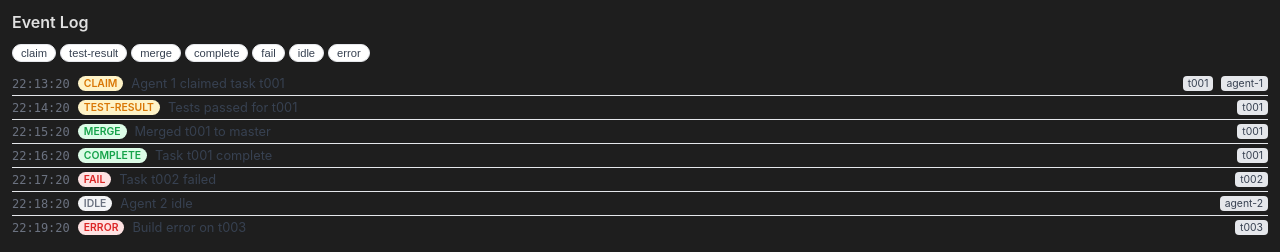
Test: EventLog › should toggle event type off when filter badge is clicked
The width and height of the screenshot is (1280, 252).
Click the button "idle".
click(306, 53)  # box [289, 44, 324, 62]
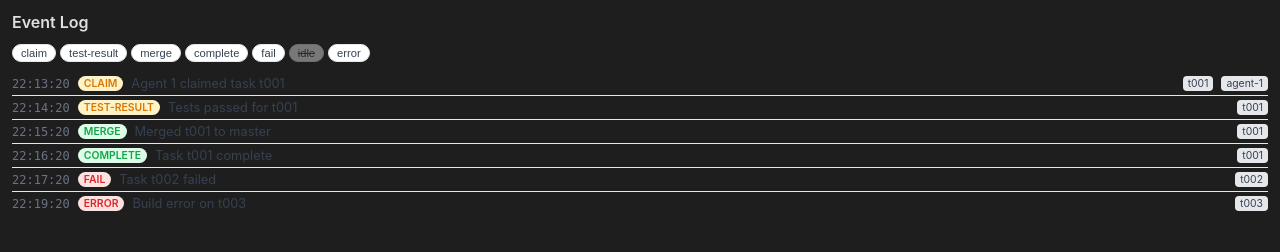
Expected: the number of elements with class "event-log-entry" is 6, [12, 72, 1268, 96]; [12, 96, 1268, 120]; [12, 120, 1268, 144]; [12, 144, 1268, 168]; [12, 168, 1268, 192]; [12, 192, 1268, 215]
